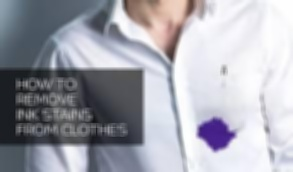ink: (199, 119, 233, 149)
